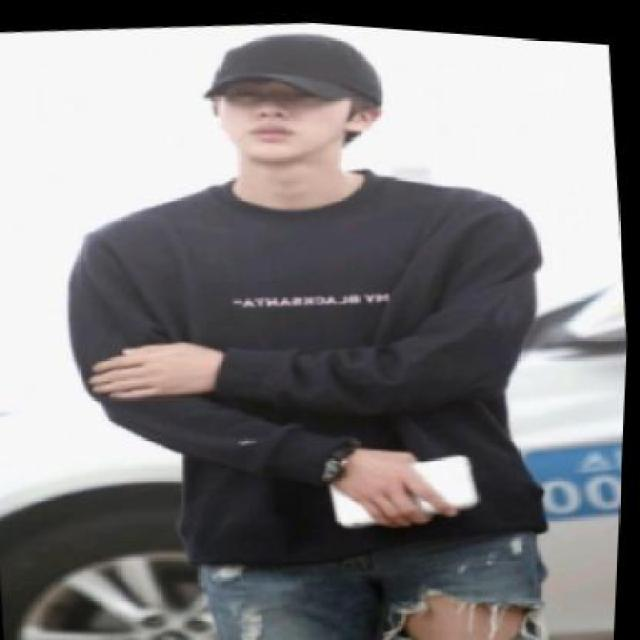hat: (193, 13, 384, 119)
